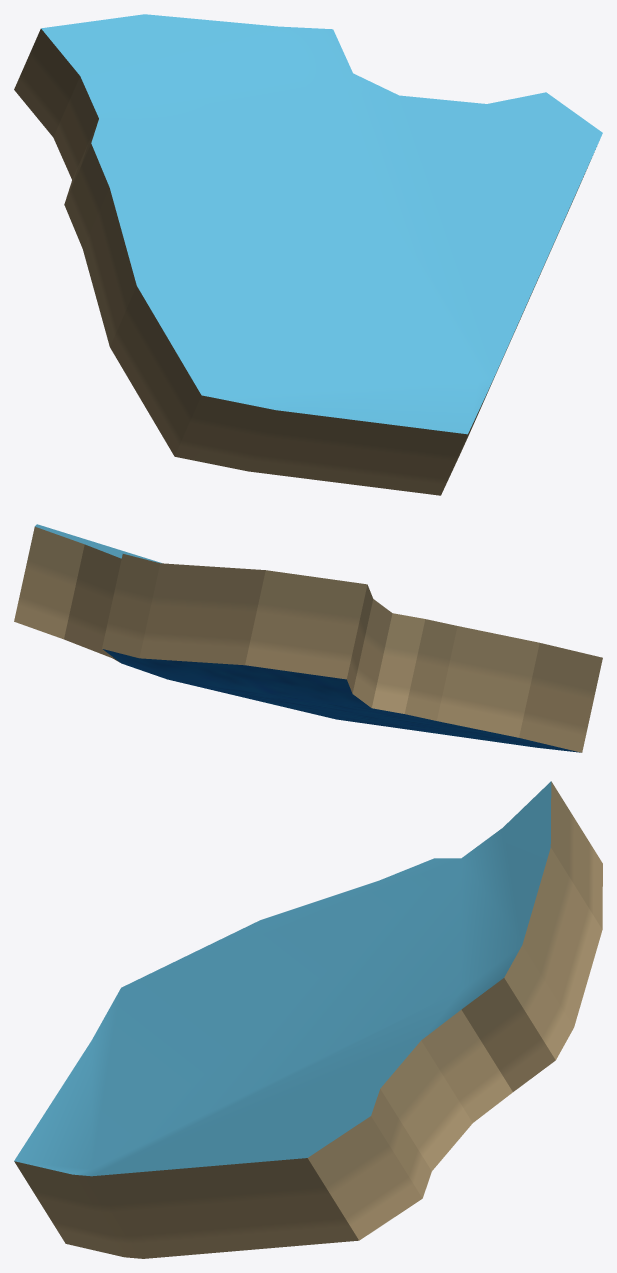
The model's file is 0634_Algeria.glb.
The picture shows the model from 3 angles, top to bottom: view 1: azimuth 30°, elevation 25°; view 2: azimuth 150°, elevation 25°; view 3: azimuth 270°, elevation 25°; orthographic projection. The views are drawn at different scales.
Parts seen in each view (by area): view 1: part_0; view 2: part_0; view 3: part_0.
Part boxes in pixels (x1,y1,x2,y2): part_0: [14, 14, 602, 495]; part_0: [14, 524, 602, 752]; part_0: [14, 781, 602, 1258].
Bounding box in the file's own units: 1.15 × 0.7698 × 1.11.
1 material, 1 textured.
